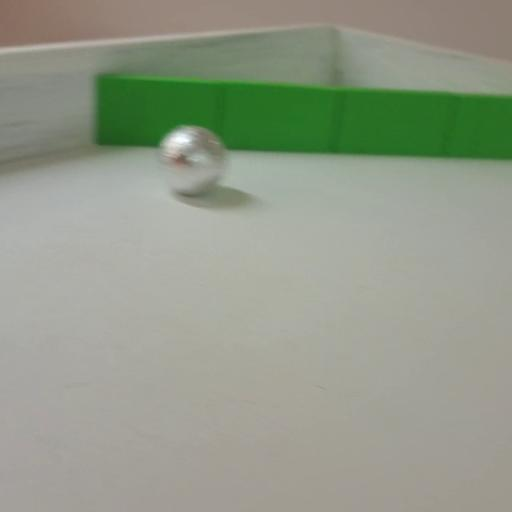alive: (158, 124, 226, 194)
